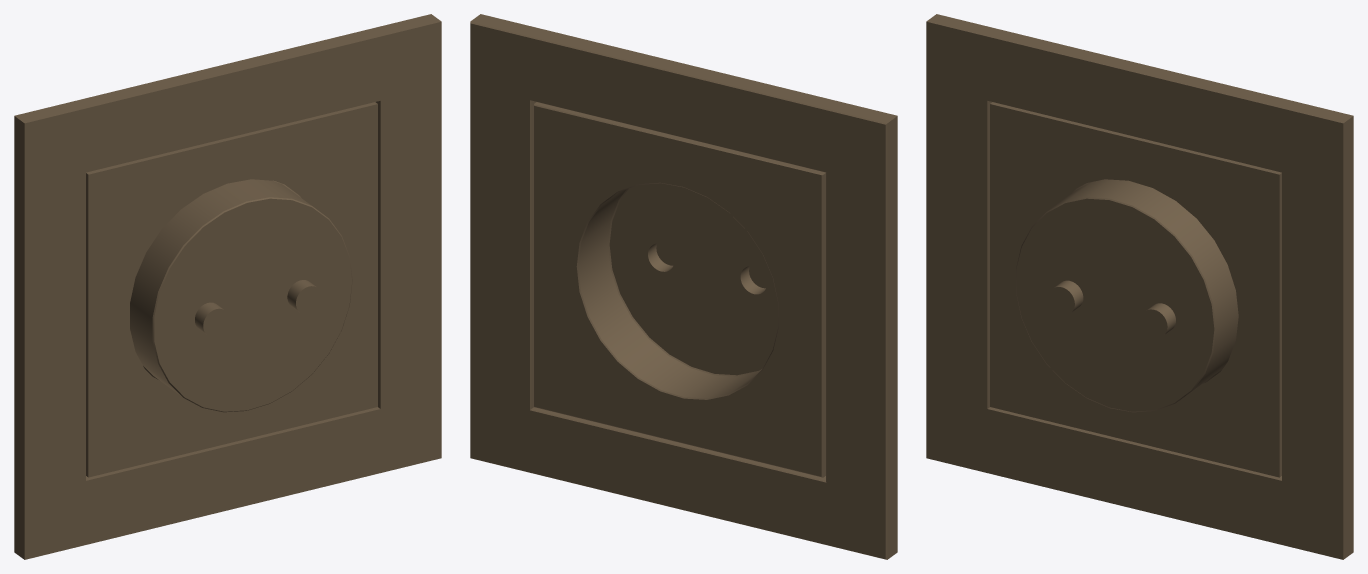
The model's file is Roz_bezh.FBX.
3 views of the same model, side by side, from view 1: azimuth 30°, elevation 25°; view 2: azimuth 150°, elevation 25°; view 3: azimuth 330°, elevation 25° (orthographic).
Parts seen in each view (by area): view 1: 003_bezh; view 2: 003_bezh; view 3: 003_bezh.
Part boxes in pixels (x1=…): 003_bezh: x1=14, y1=14, x2=441, y2=559; 003_bezh: x1=470, y1=14, x2=897, y2=559; 003_bezh: x1=926, y1=14, x2=1353, y2=559.
Size of the model in its own units: 56.74 by 56.74 by 9.27.
